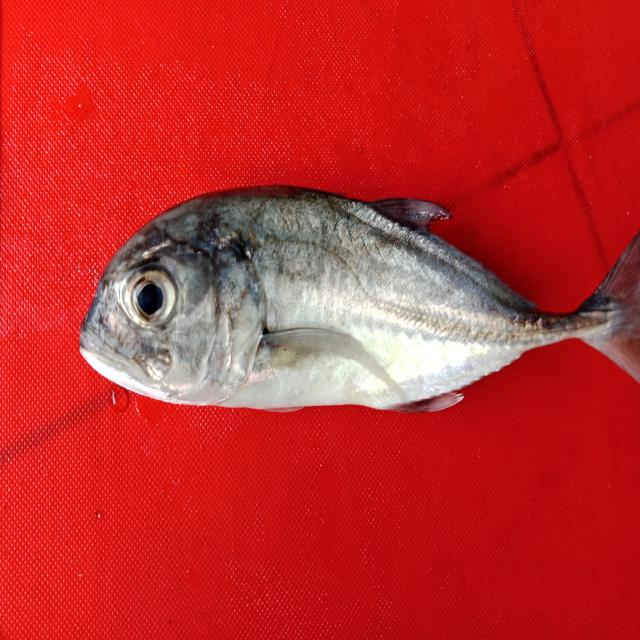ikan: (65, 159, 625, 478)
